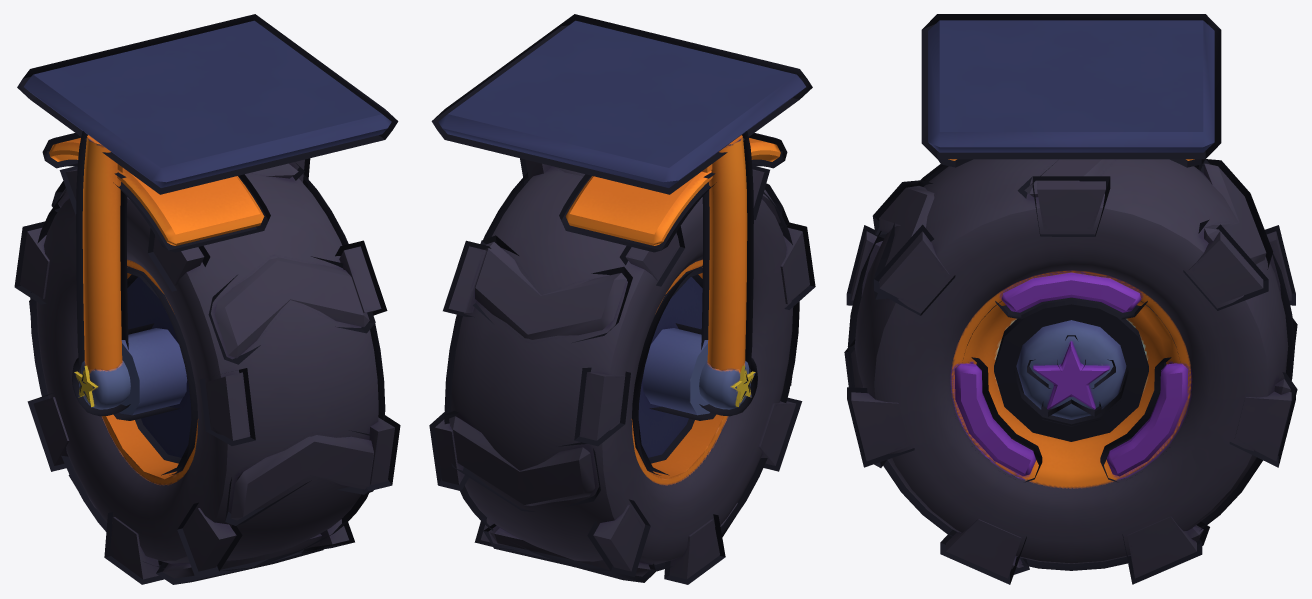
File: R4M_Wheel.fbx
3 renders of one model, left to right at view 1: azimuth 30°, elevation 25°; view 2: azimuth 150°, elevation 25°; view 3: azimuth 270°, elevation 25°, orthographic. The views are drawn at different scales.
Parts seen in each view (by area): view 1: R4M_Wheel_Rotor, R4M_Wheel_Mount; view 2: R4M_Wheel_Rotor, R4M_Wheel_Mount; view 3: R4M_Wheel_Rotor, R4M_Wheel_Mount.
Boxes of the visible parts, bbox=[...] form: R4M_Wheel_Rotor: bbox=[14, 158, 400, 584]; R4M_Wheel_Mount: bbox=[17, 14, 398, 416]; R4M_Wheel_Rotor: bbox=[429, 158, 815, 584]; R4M_Wheel_Mount: bbox=[431, 14, 812, 416]; R4M_Wheel_Rotor: bbox=[844, 159, 1297, 584]; R4M_Wheel_Mount: bbox=[921, 14, 1221, 167].
Bounding box in the file's own units: 0.5281 × 0.9205 × 0.7903.
Materials: 2 (1 with a texture image).
